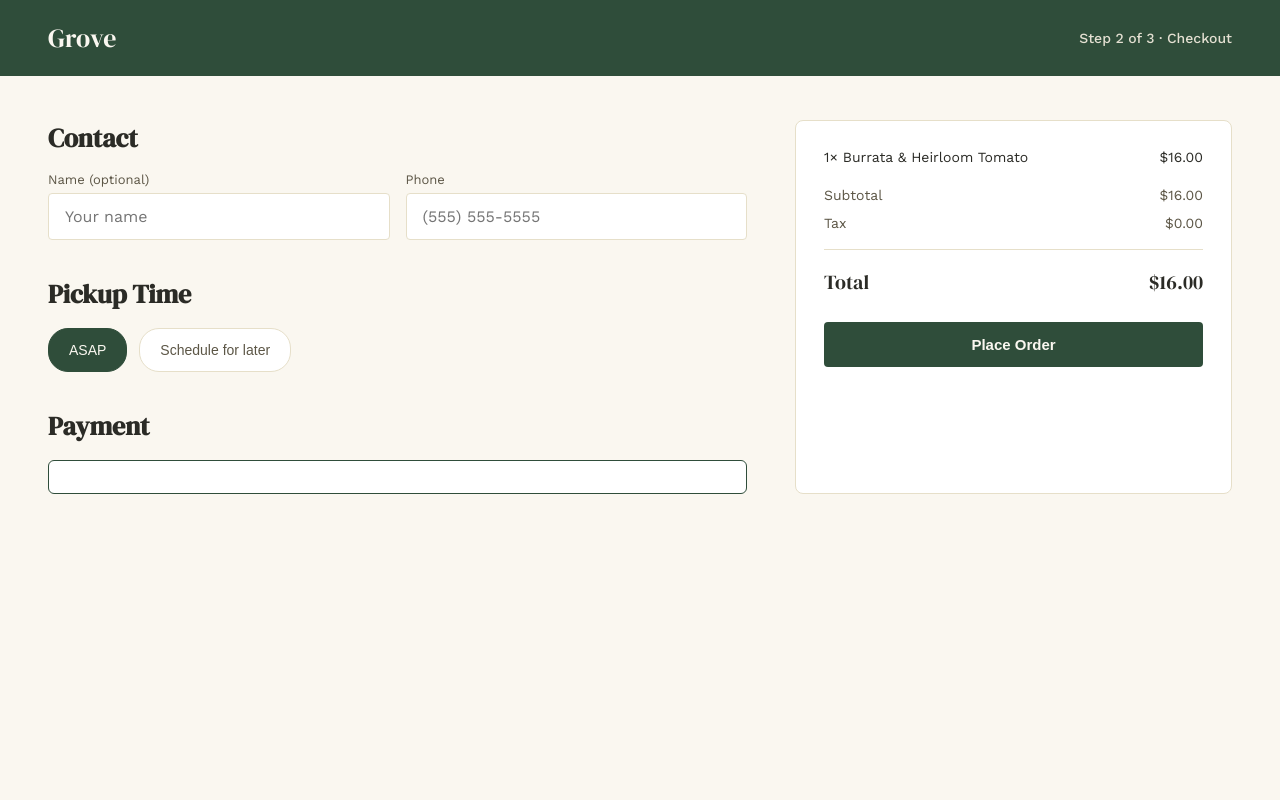
Test: CheckoutView › shows a validation error when phone is missing
This screenshot has width=1280, height=800.
Click the button with class "cta". click: (1014, 344)
box: left=824, top=322, right=1203, bottom=367
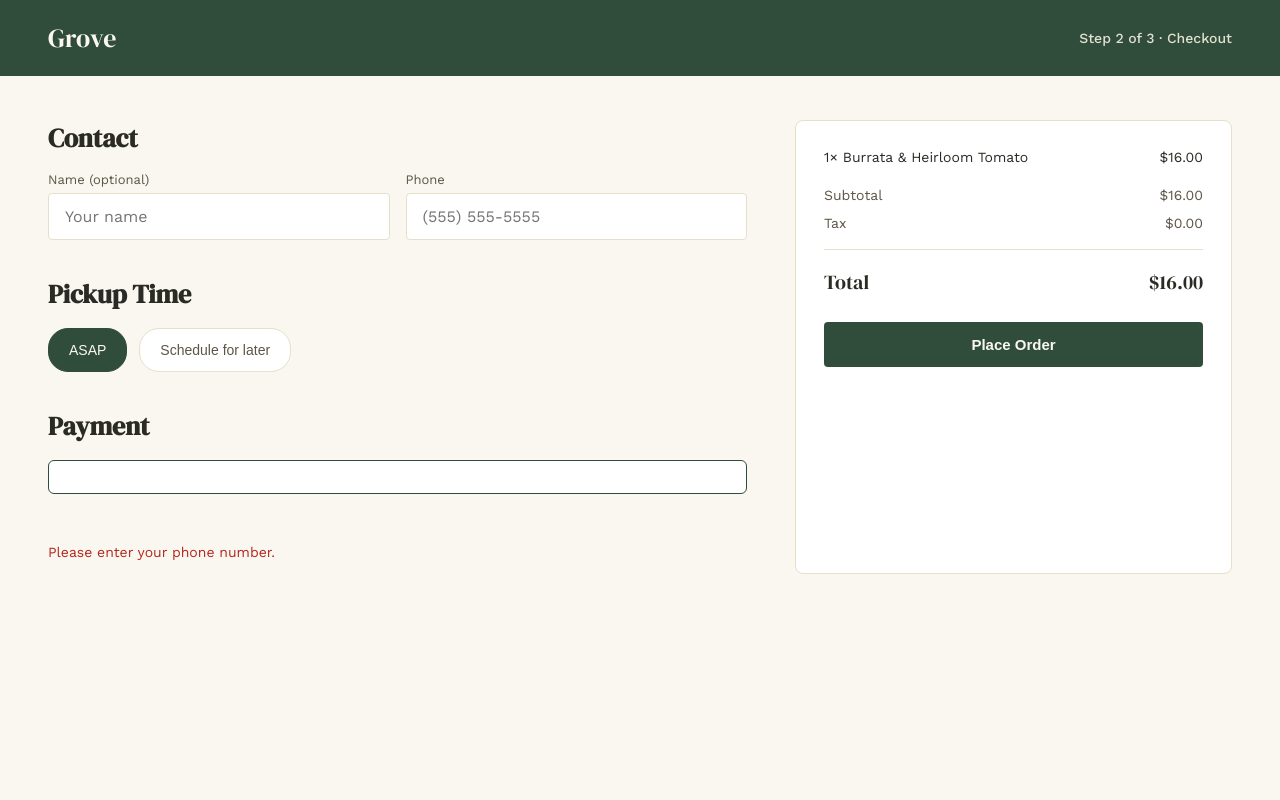
Check: the text "Please enter your phone number." is shown, box left=48, top=544, right=275, bottom=560
